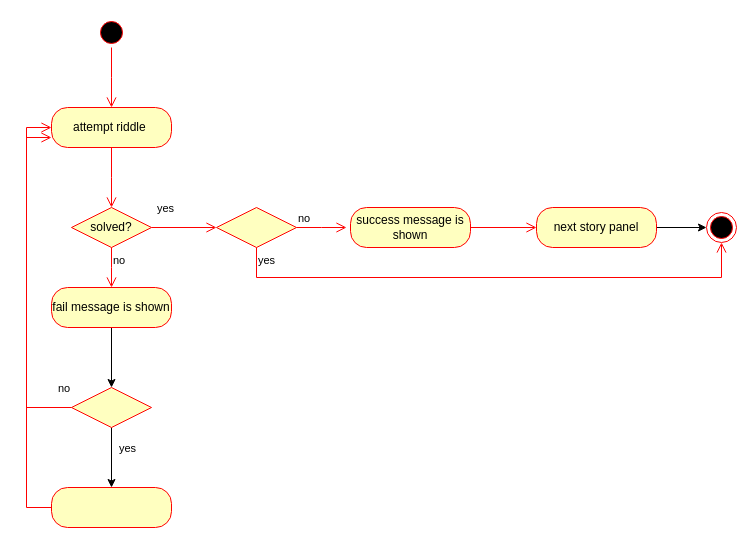
This 754x545 diagram has some shape labels left out. Each missing label, with the centre of its shape:
"final riddle?" goes at (x=256, y=227).
"hint message is shown" goes at (x=111, y=507).
"hint?" goes at (x=111, y=407).
